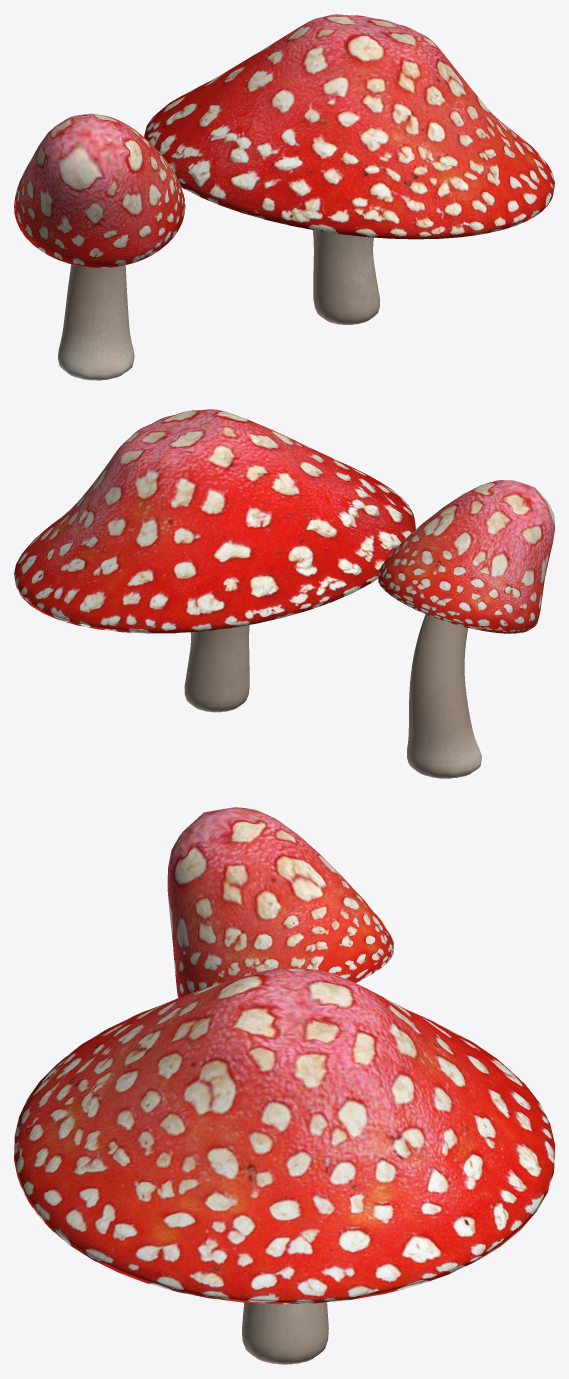
The model's file is RebelMommy3.FBX.
3 views of the same model, one above another, from view 1: azimuth 30°, elevation 25°; view 2: azimuth 150°, elevation 25°; view 3: azimuth 270°, elevation 25° (orthographic). The views are drawn at different scales.
Parts seen in each view (by area): view 1: rebelMommy1; view 2: rebelMommy1; view 3: rebelMommy1.
Part boxes in pixels (x1,y1,x2,y2): rebelMommy1: (14, 14, 554, 380); rebelMommy1: (14, 409, 554, 778); rebelMommy1: (14, 807, 554, 1364).
Bounding box in the file's own units: 69.75 × 38.62 × 49.94.
